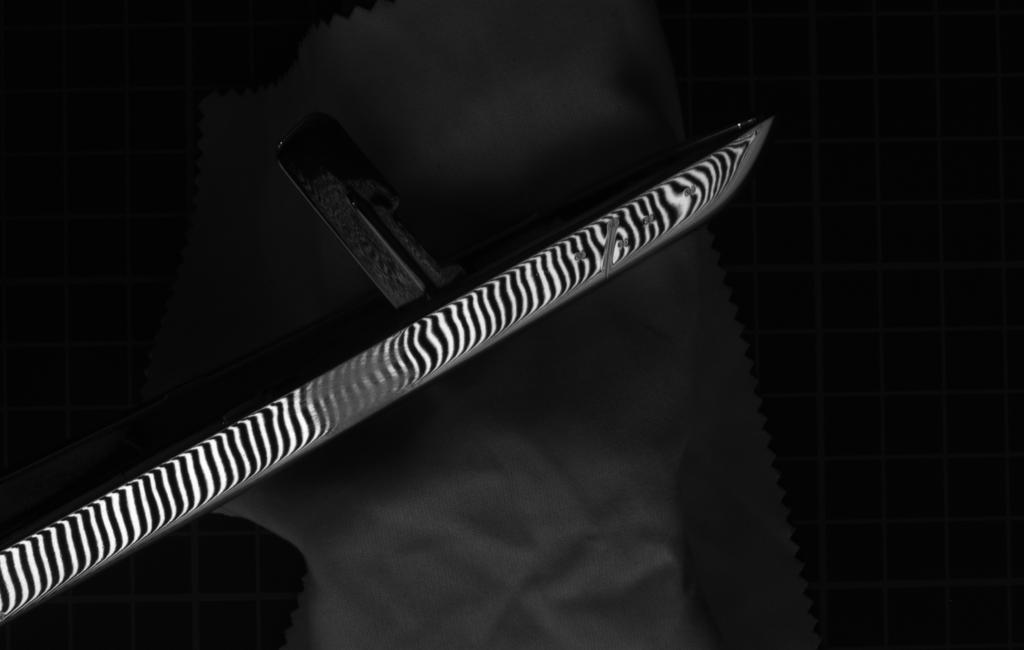Pierced: (640, 211, 662, 229), (570, 248, 594, 263), (683, 183, 703, 199), (616, 237, 637, 250)
Pitting: (307, 318, 426, 446)
Scratch: (597, 211, 624, 283)
